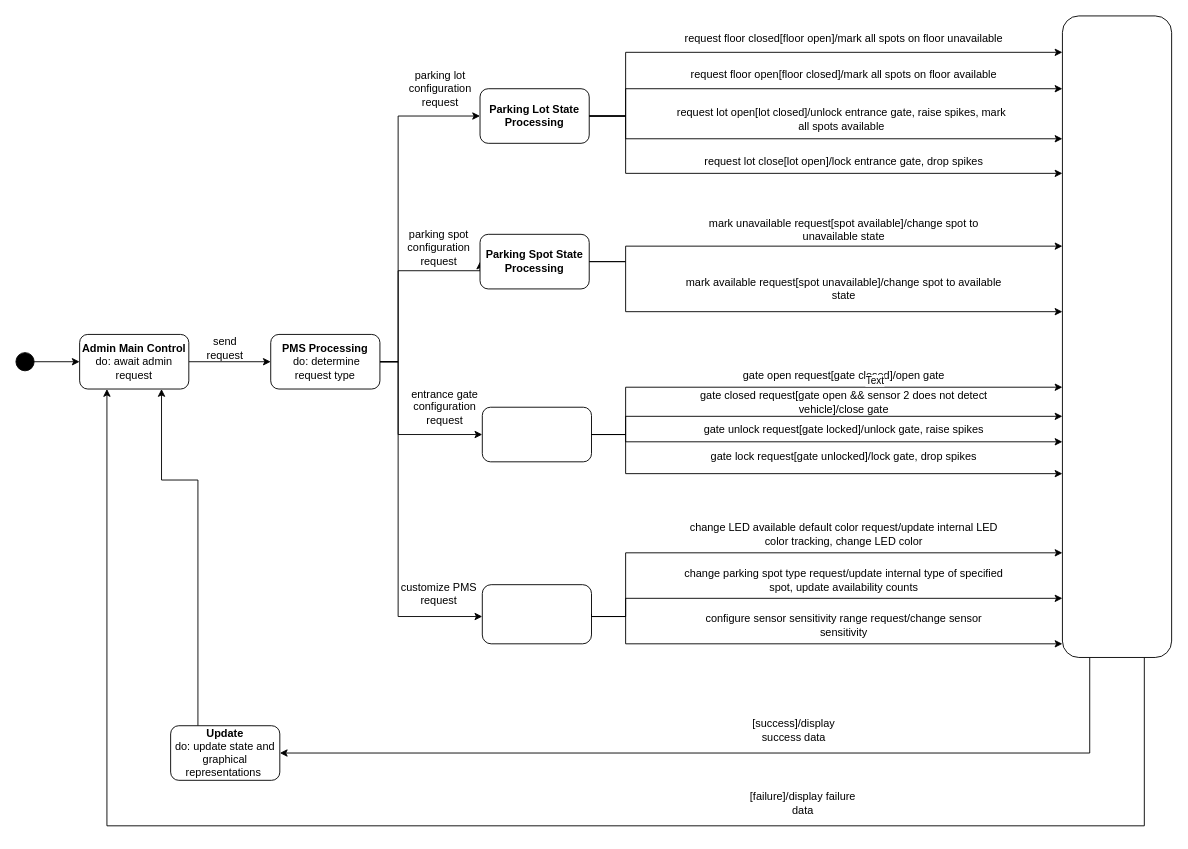
Some shapes in this 1188 by 849 pixel diagram are drawn without their labels. The shapes that lost their labels are listed below. From the top down, each one's centre as x and y in pixels, then its label:
At [1117,336]: "External Interface Communication do: await action confirmation".
At [536,434]: "Gate State Processing".
At [536,614]: "PMS Customization Processing".
